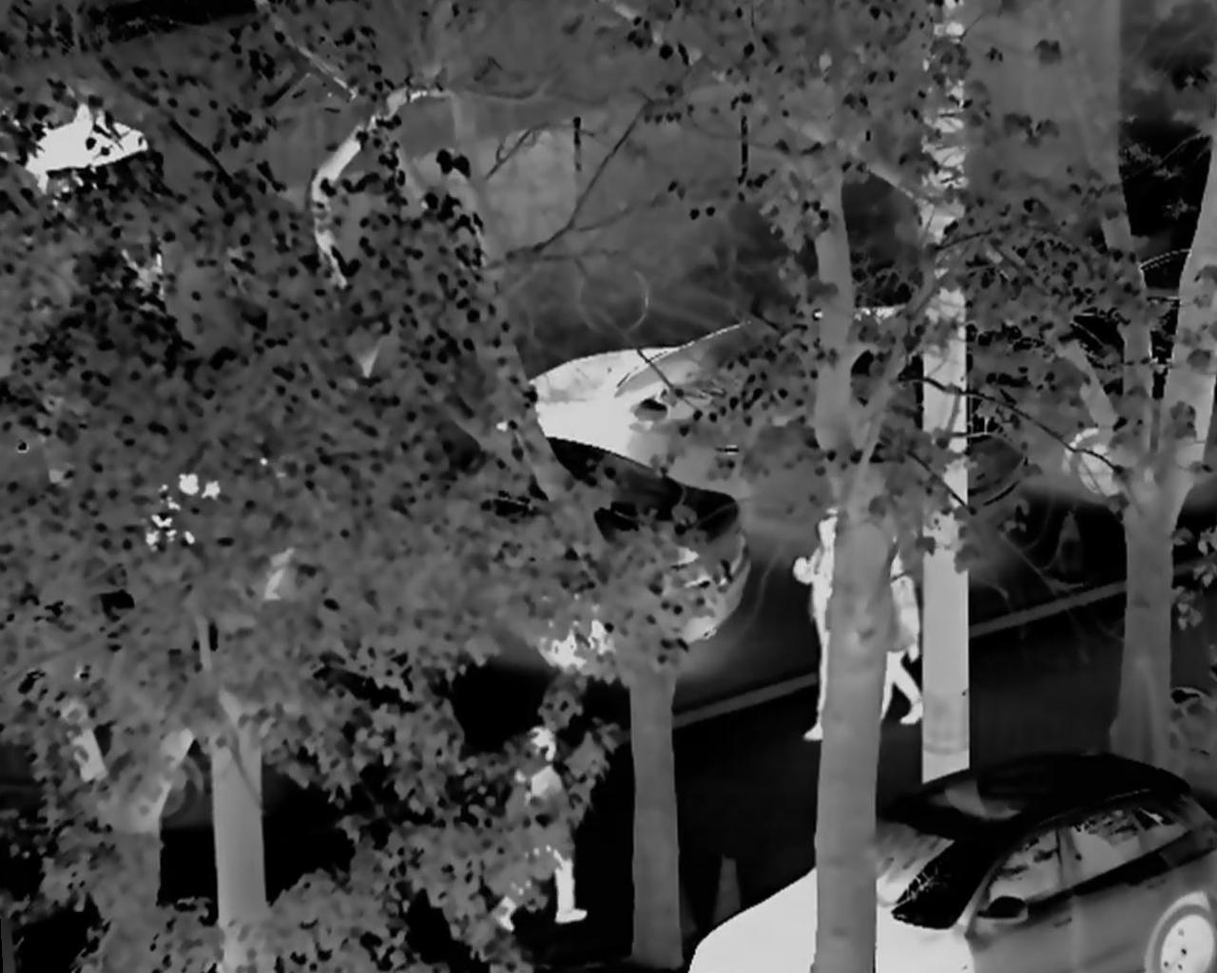person: (497, 721, 592, 932), (855, 536, 927, 720), (791, 510, 847, 741)
